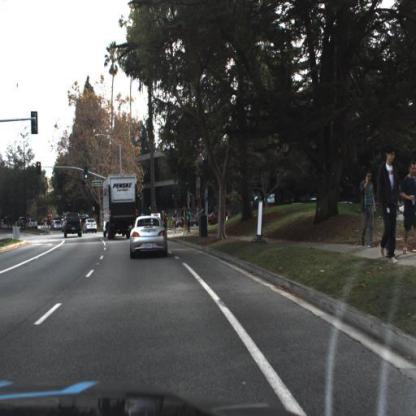biker: (178, 204, 189, 238), (171, 202, 179, 241)
car: (128, 215, 170, 260), (64, 209, 84, 240), (24, 217, 38, 233), (86, 219, 97, 235)
pedestrian: (379, 142, 401, 266), (402, 158, 416, 258), (362, 169, 378, 250), (185, 203, 193, 236)
trafficLight-Green: (83, 168, 91, 182), (83, 164, 90, 180)
trafficLight-RedLeft: (37, 161, 45, 179)
truck: (101, 174, 137, 244)
